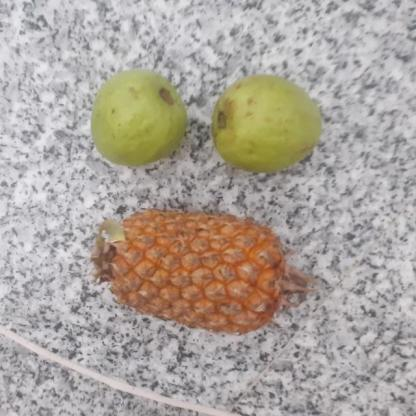guava: (208, 76, 320, 169), (86, 71, 189, 166)
pineapple: (82, 209, 315, 336)
